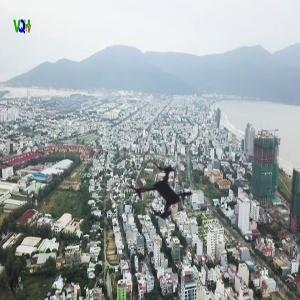drone: (104, 128, 230, 254)
